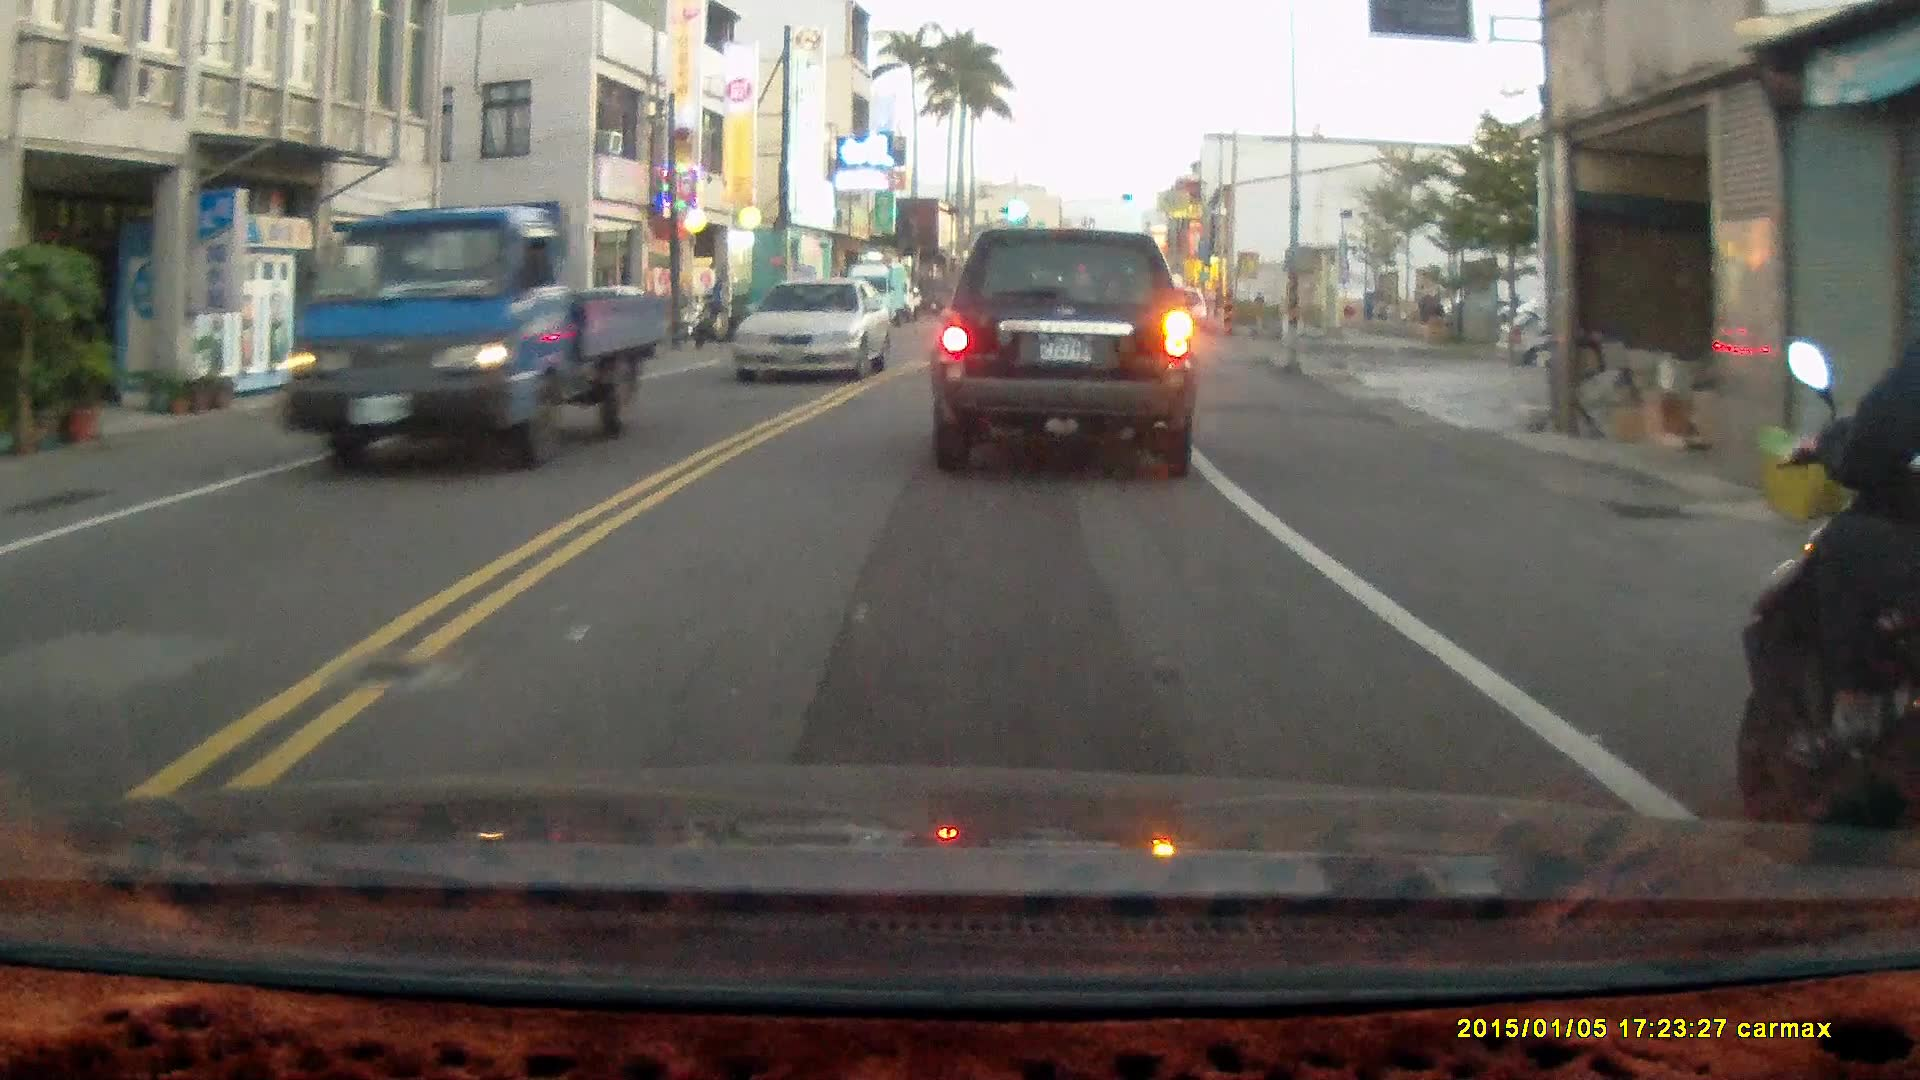pedestrian: (706, 279, 727, 335)
rider: (1742, 264, 1920, 904)
vehicle: (275, 204, 673, 475), (928, 226, 1200, 483), (734, 279, 896, 392)
